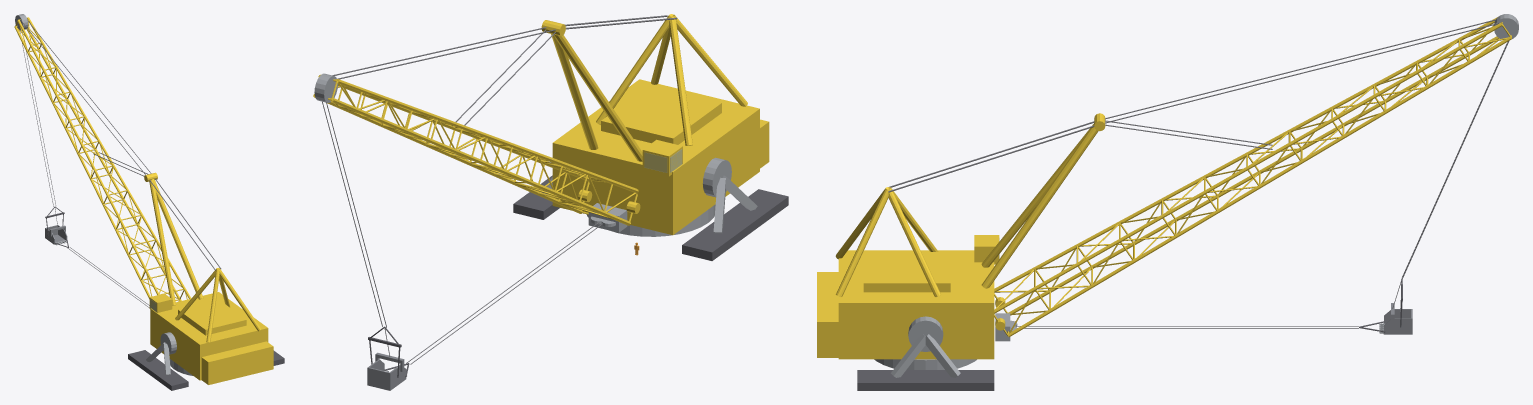
Rendered from dragline.glb.
3 renders of one model, left to right at view 1: azimuth 30°, elevation 25°; view 2: azimuth 150°, elevation 25°; view 3: azimuth 270°, elevation 25°, orthographic. The views are drawn at different scales.
Parts seen in each view (by area): view 1: boom, house, counterweight, mast, a_frame, walking_shoes, suspension_ropes, hoist_drag_ropes, walking_cams, operator_cab, bucket; view 2: house, boom, walking_shoes, a_frame, mast, suspension_ropes, walking_cams, hoist_drag_ropes, operator_cab, bucket, tub, fairlead (+3 smaller); view 3: house, boom, suspension_ropes, mast, walking_shoes, a_frame, counterweight, walking_cams, hoist_drag_ropes, bucket, tub.
Part boxes in pixels (x1,y1,x2,y2): boom: [14, 17, 191, 301]; house: [150, 292, 268, 380]; counterweight: [201, 341, 273, 384]; mast: [144, 172, 203, 305]; a_frame: [175, 268, 261, 342]; walking_shoes: [128, 350, 284, 390]; suspension_ropes: [20, 20, 221, 270]; hoist_drag_ropes: [20, 30, 149, 307]; walking_cams: [146, 332, 176, 375]; operator_cab: [149, 293, 172, 312]; bucket: [45, 225, 67, 244]; house: [552, 79, 759, 235]; boom: [313, 74, 640, 225]; walking_shoes: [513, 175, 788, 260]; a_frame: [596, 14, 747, 145]; mast: [541, 20, 642, 161]; suspension_ropes: [332, 15, 677, 126]; walking_cams: [546, 157, 757, 233]; hoist_drag_ropes: [322, 101, 602, 364]; operator_cab: [642, 139, 682, 176]; bucket: [367, 352, 406, 390]; tub: [586, 204, 715, 236]; fairlead: [588, 203, 627, 232]; house: [838, 250, 994, 359]; boom: [994, 17, 1511, 337]; suspension_ropes: [888, 19, 1500, 192]; mast: [981, 113, 1105, 288]; walking_shoes: [857, 370, 994, 390]; a_frame: [835, 187, 940, 296]; counterweight: [817, 272, 838, 357]; walking_cams: [891, 316, 960, 377]; hoist_drag_ropes: [1016, 41, 1509, 328]; bucket: [1384, 303, 1412, 334]; tub: [874, 359, 976, 369].
Size of the model in its own units: 33 by 58.84 by 113.
